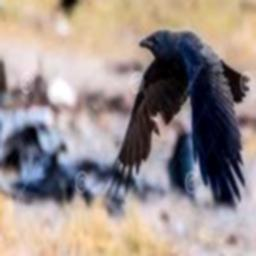Crow: (109, 28, 250, 209)
